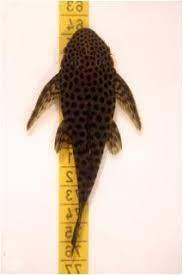Janitor Fish: (25, 28, 142, 259)
